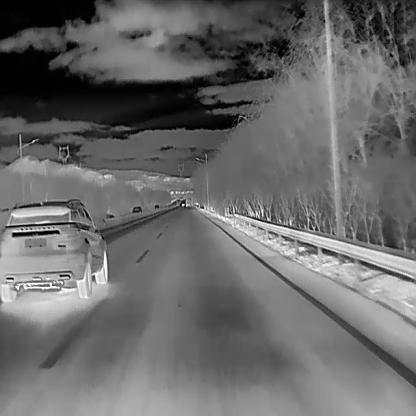car: (0, 197, 110, 303), (131, 204, 142, 214), (186, 197, 191, 209), (154, 203, 160, 211), (181, 202, 185, 208)
